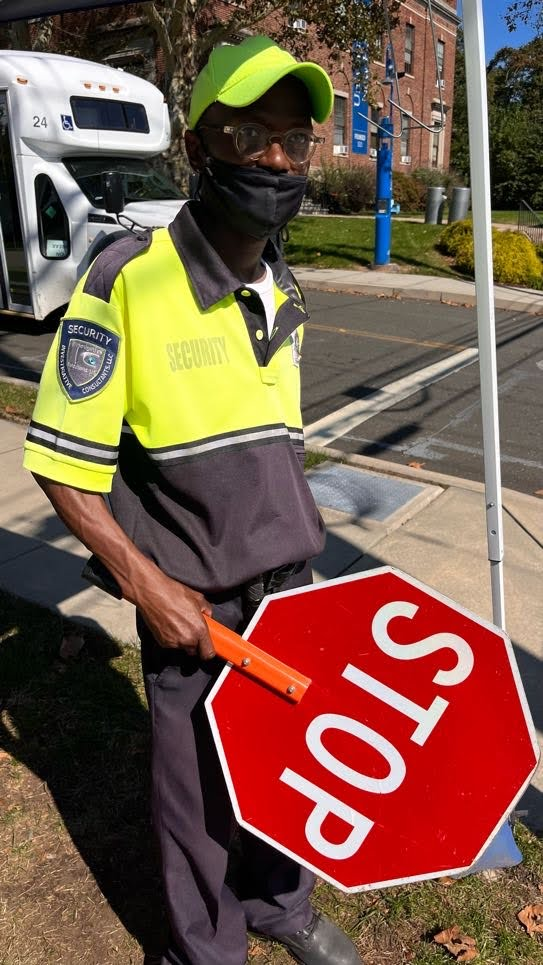Security Officer: (135, 20, 393, 509)
